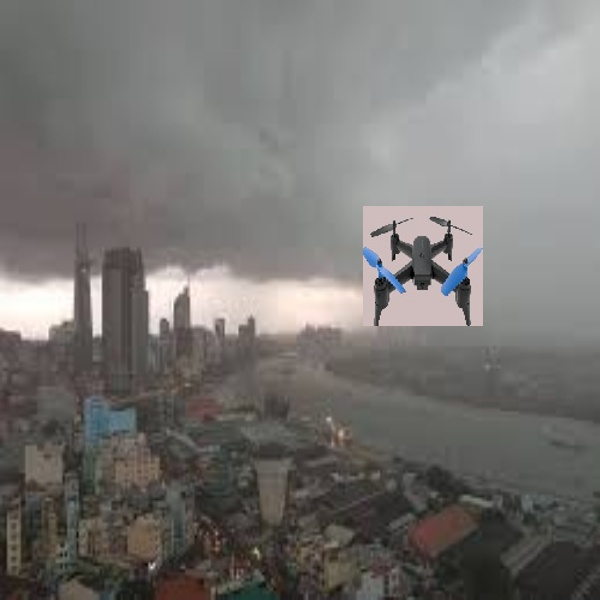drone: (363, 204, 485, 330)
